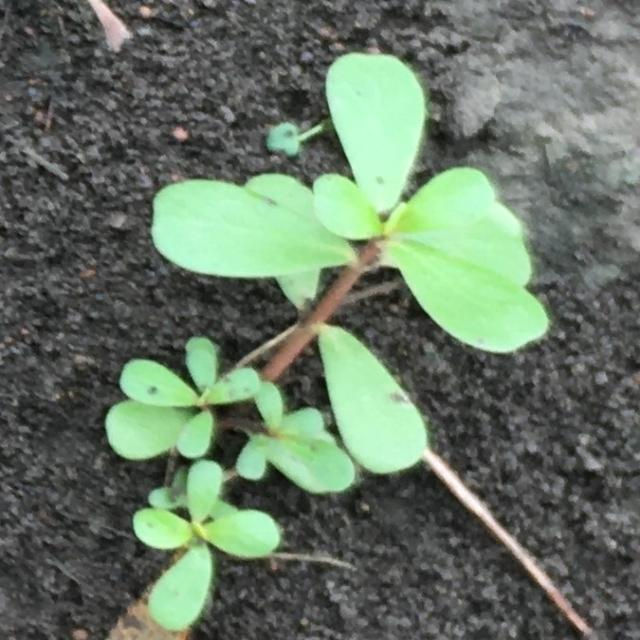Purslane: (105, 53, 549, 632)
